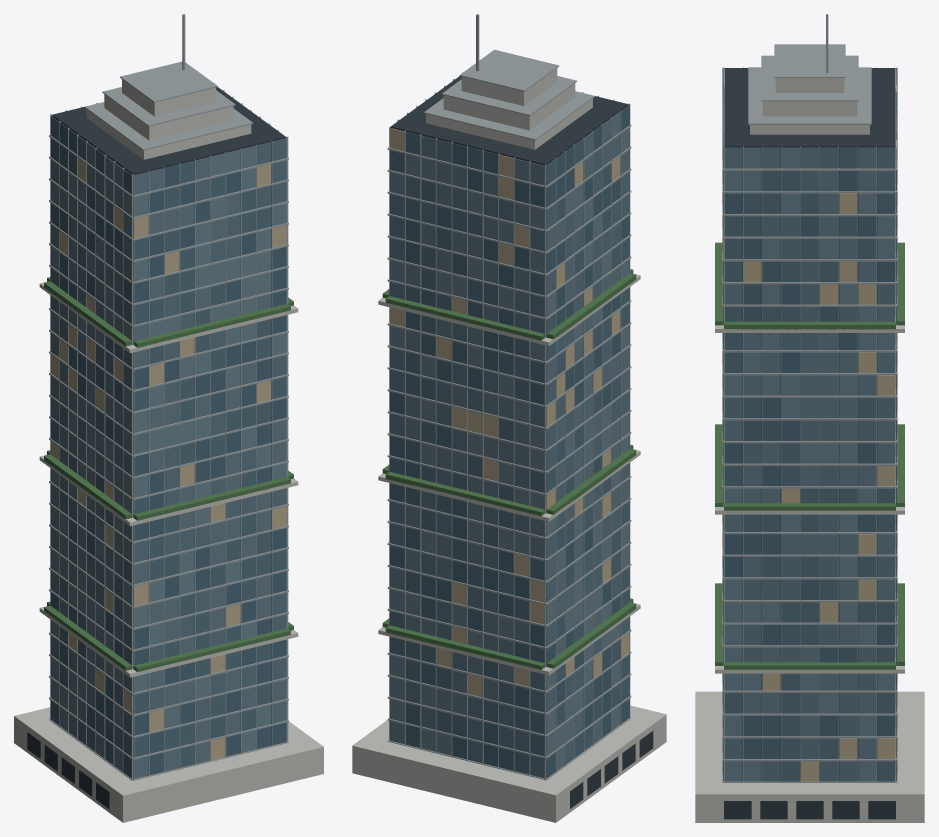
File: skyline_0.glb
3 renders of one model, left to right at view 1: azimuth 30°, elevation 25°; view 2: azimuth 150°, elevation 25°; view 3: azimuth 270°, elevation 25°, orthographic. The views are drawn at different scales.
Parts seen in each view (by area): view 1: champagne_aluminium, glass_1, glass_0, glass_4, glass_3, warm_mineral_stone, glass_2, interior_shade, roof_garden, shadow_recess; view 2: champagne_aluminium, glass_2, glass_0, glass_3, glass_1, glass_4, warm_mineral_stone, interior_shade, roof_garden, shadow_recess; view 3: champagne_aluminium, glass_3, glass_1, warm_mineral_stone, glass_4, glass_2, shadow_recess, glass_0, roof_garden, interior_shade.
Part boxes in pixels (bbox=[...]): champagne_aluminium: bbox=[49, 14, 288, 780]; glass_1: bbox=[50, 92, 286, 767]; glass_0: bbox=[50, 122, 286, 778]; glass_4: bbox=[50, 111, 286, 771]; glass_3: bbox=[50, 87, 286, 778]; warm_mineral_stone: bbox=[14, 79, 323, 822]; glass_2: bbox=[50, 98, 286, 738]; interior_shade: bbox=[50, 158, 286, 760]; roof_garden: bbox=[44, 277, 293, 671]; shadow_recess: bbox=[27, 87, 285, 809]; champagne_aluminium: bbox=[387, 14, 631, 780]; glass_2: bbox=[389, 101, 629, 778]; glass_0: bbox=[389, 105, 629, 778]; glass_3: bbox=[389, 80, 629, 744]; glass_1: bbox=[389, 107, 629, 774]; glass_4: bbox=[389, 76, 629, 770]; warm_mineral_stone: bbox=[352, 68, 666, 822]; interior_shade: bbox=[389, 128, 629, 717]; roof_garden: bbox=[382, 269, 636, 669]; shadow_recess: bbox=[391, 76, 653, 808]; champagne_aluminium: bbox=[722, 14, 897, 782]; glass_3: bbox=[723, 69, 896, 780]; glass_1: bbox=[723, 93, 896, 781]; warm_mineral_stone: bbox=[695, 78, 924, 822]; glass_4: bbox=[723, 77, 896, 781]; glass_2: bbox=[723, 116, 896, 781]; shadow_recess: bbox=[724, 68, 895, 819]; glass_0: bbox=[723, 85, 896, 780]; roof_garden: bbox=[715, 242, 904, 669]; interior_shade: bbox=[723, 85, 896, 781].
Size of the model in its own units: 34.1 by 118 by 32.
